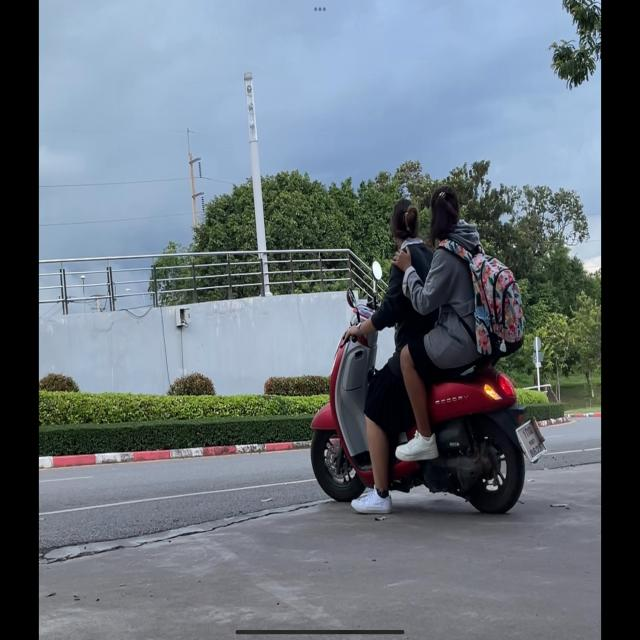seatbelt: (430, 184, 460, 235), (391, 197, 419, 245)
